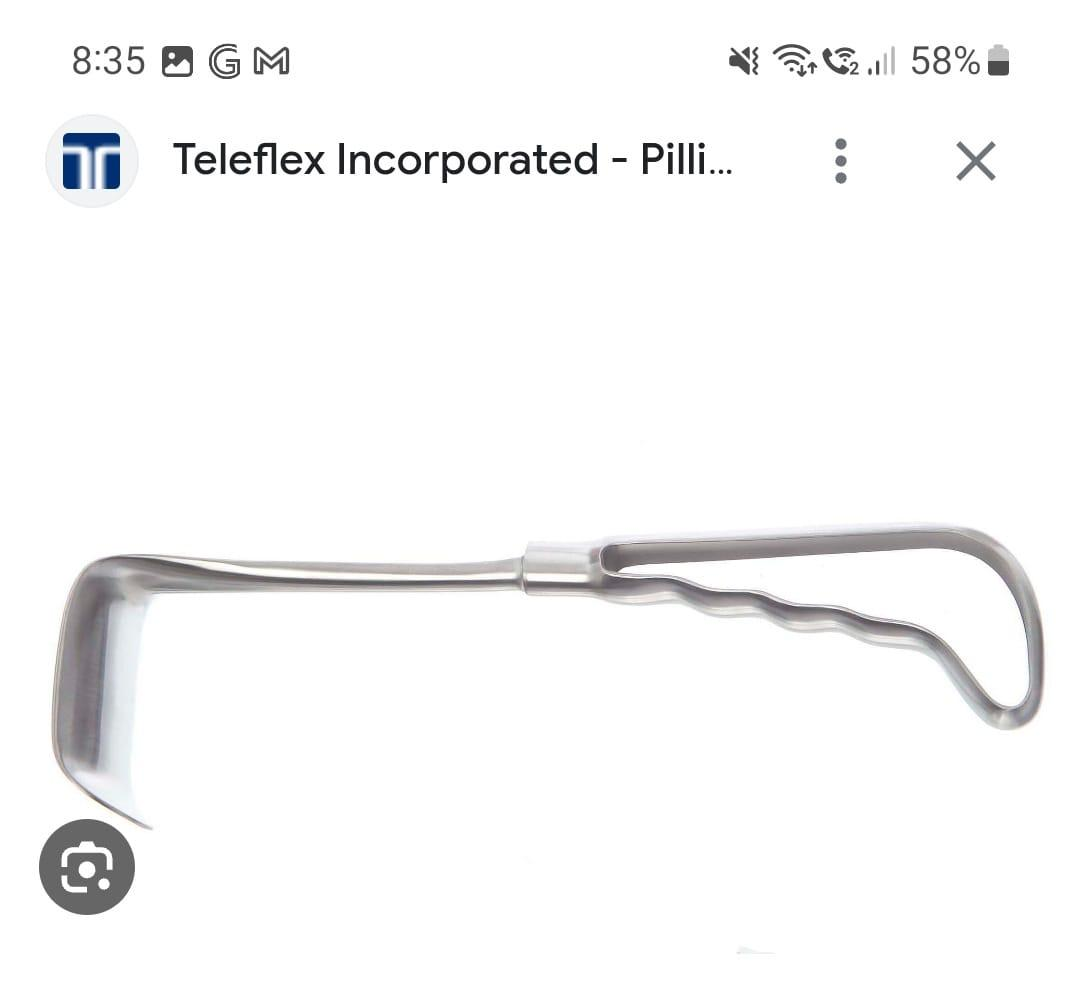Kelly Retractor: (44, 510, 1049, 834)
